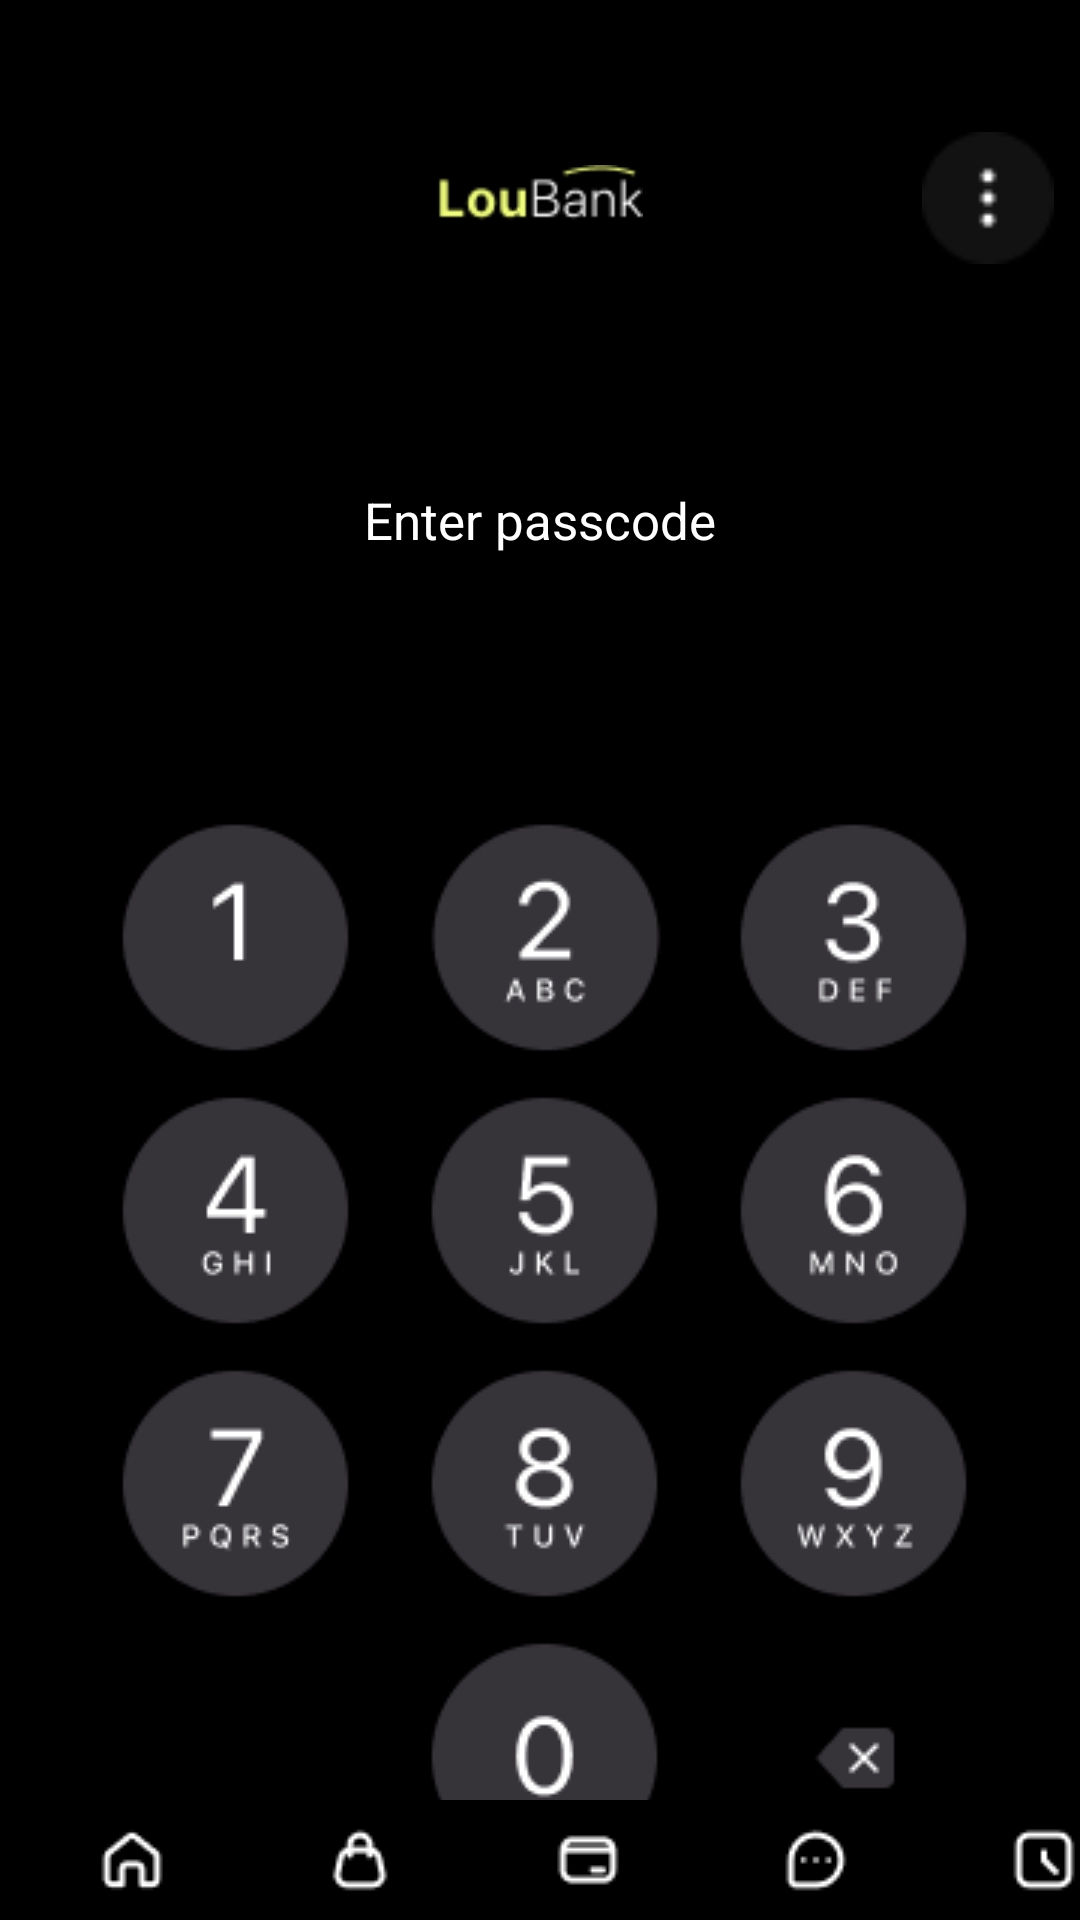

Where icons sit on this 1080px x 1920px app screen, as (x1, y1, x2, y2):
homeee: (101, 1832, 163, 1889)
more: (978, 167, 998, 229)
